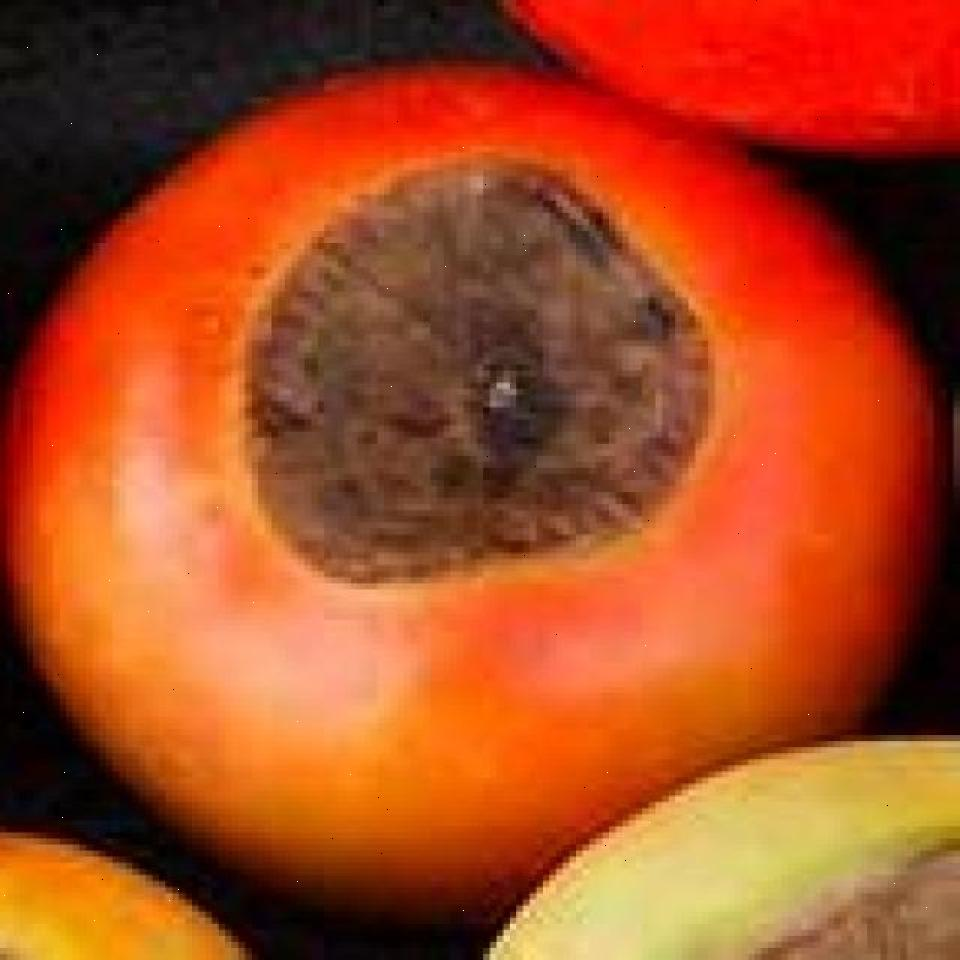Blossom_end_rot: (258, 142, 735, 604), (741, 826, 960, 954)
